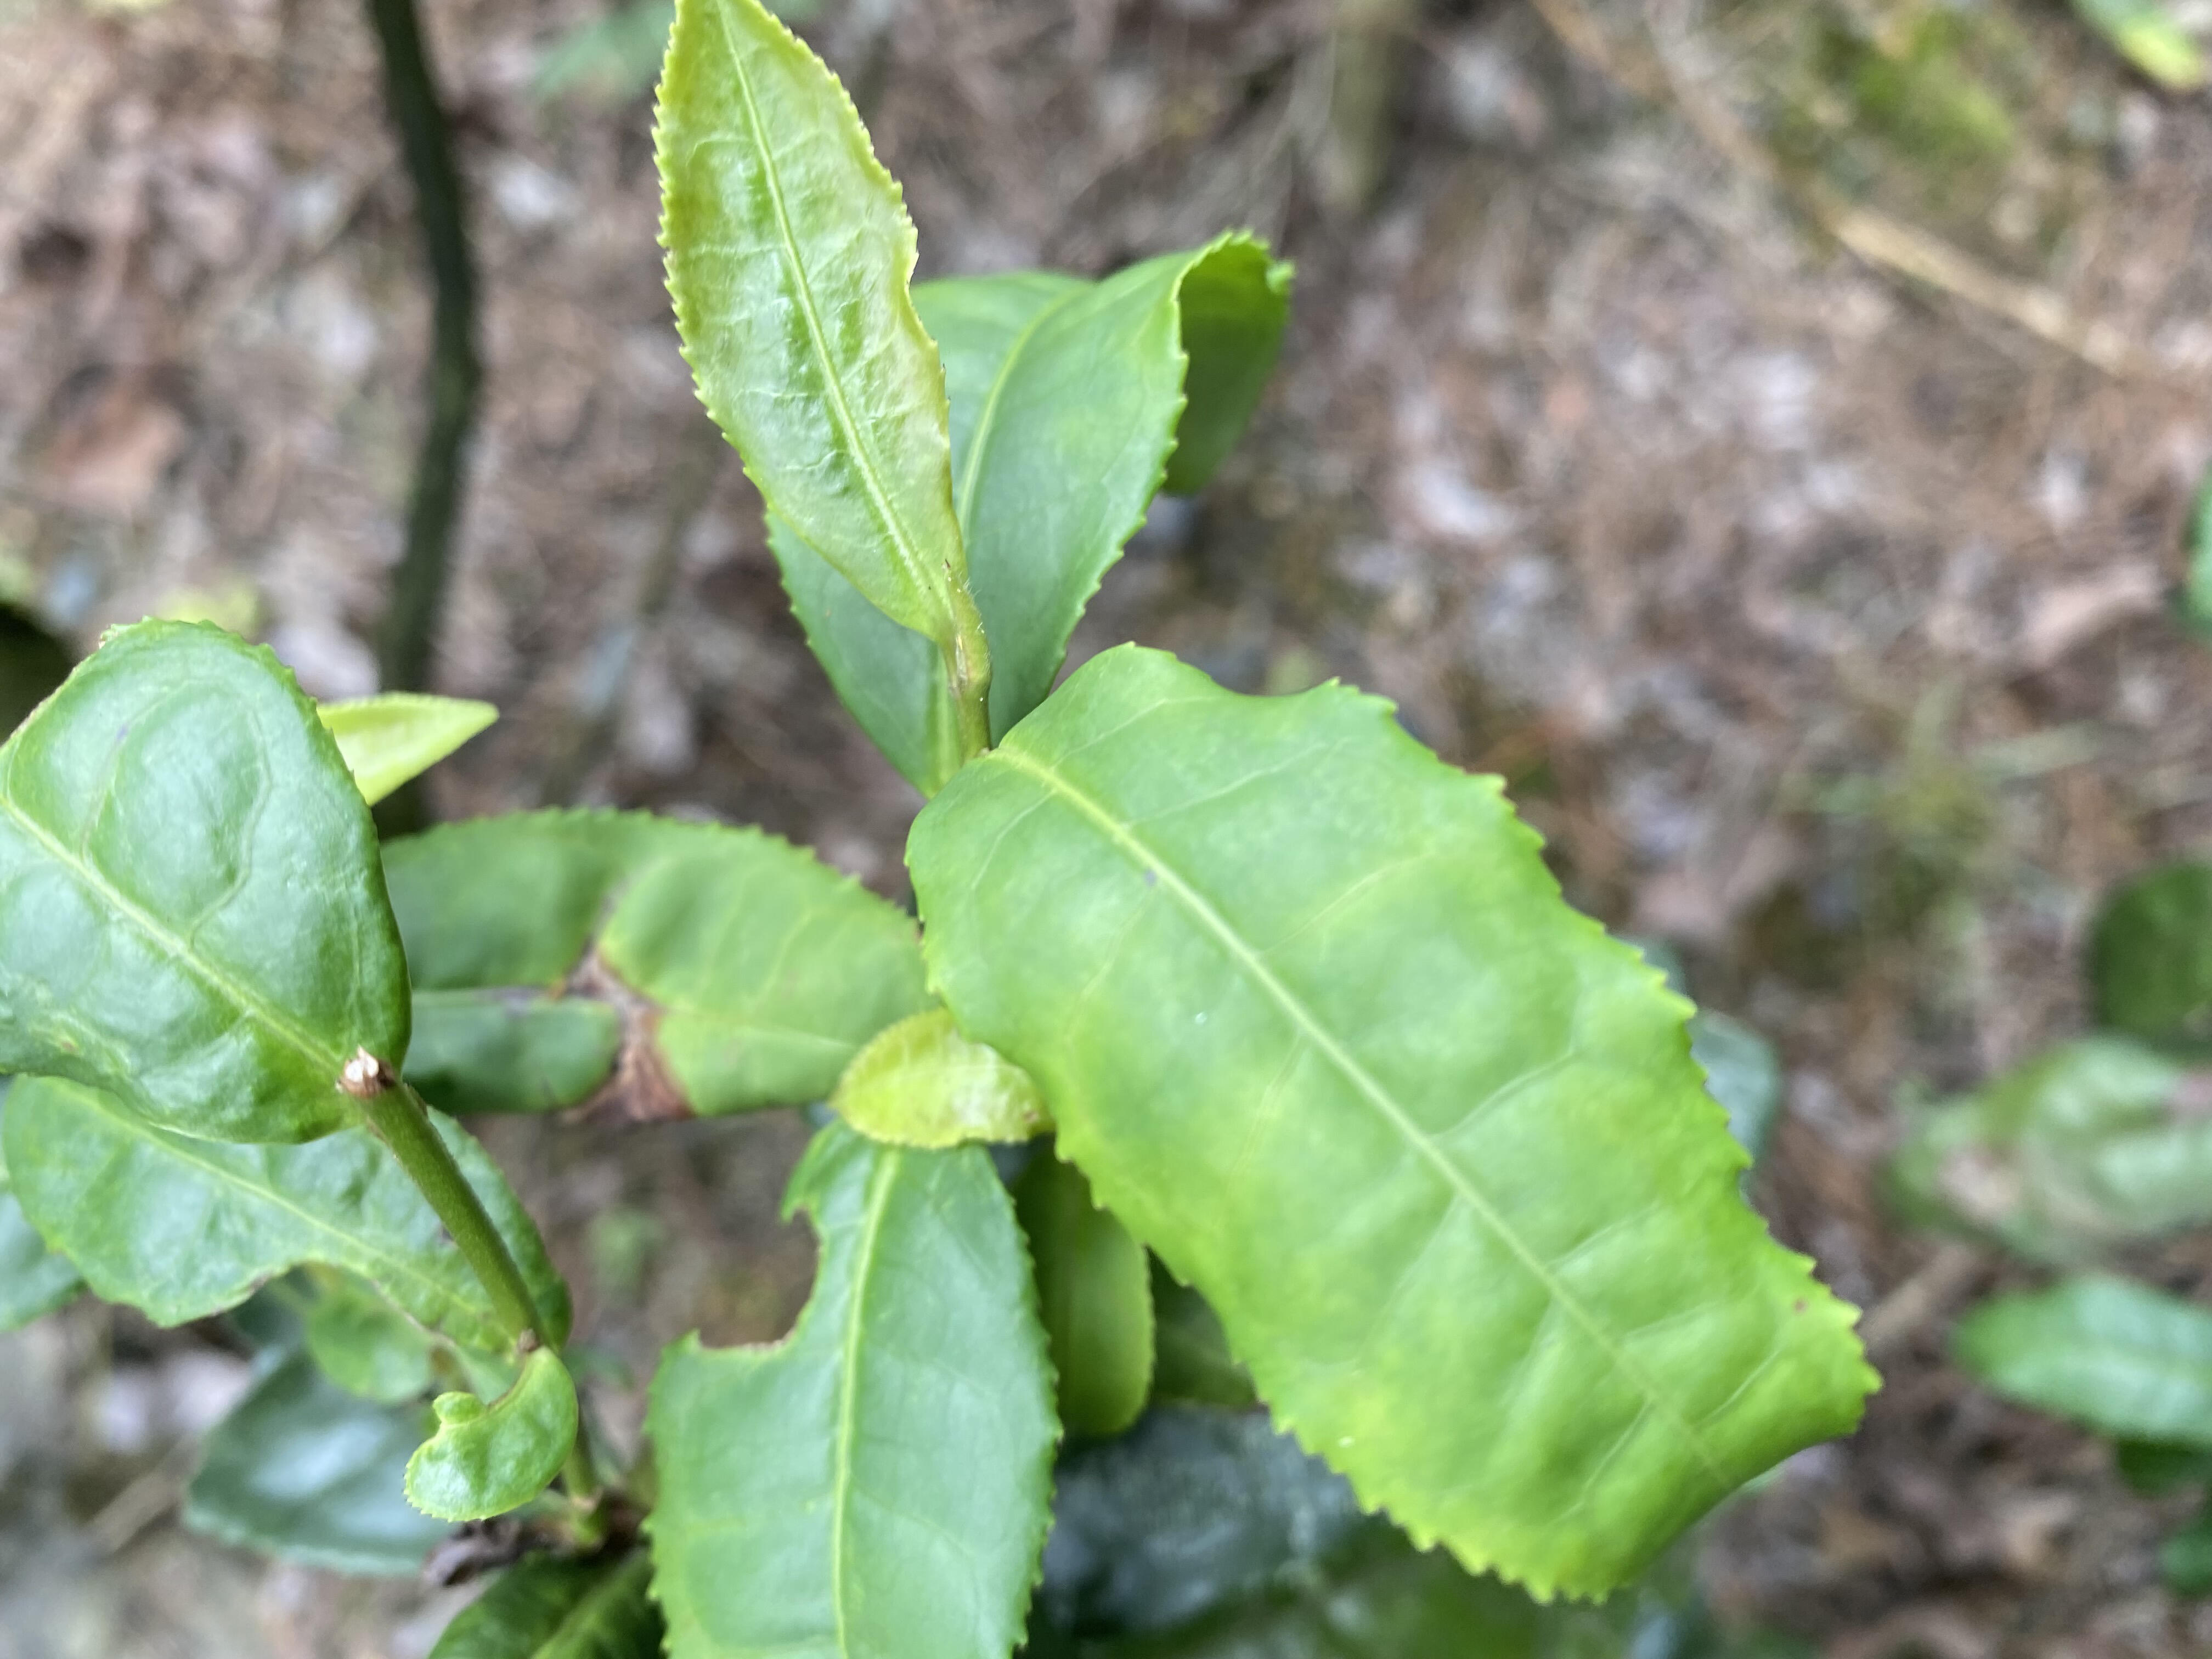chihuo_low: (636, 1117, 1068, 1656), (3, 1072, 570, 1375)
healthy: (650, 2, 968, 645)
tanju_high: (380, 802, 916, 1136)
